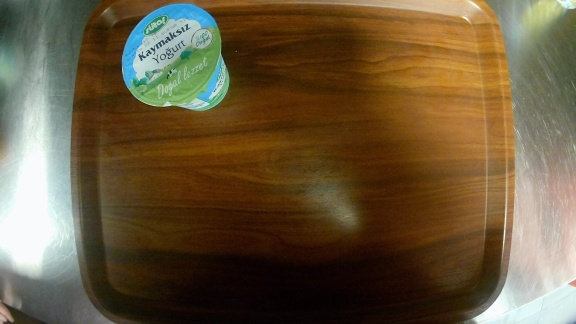yogurt: (117, 1, 234, 116)
